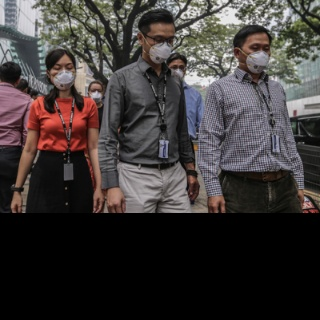with_mask: (145, 32, 176, 66), (241, 42, 272, 75), (52, 62, 77, 91), (169, 63, 186, 80), (88, 87, 104, 104)
